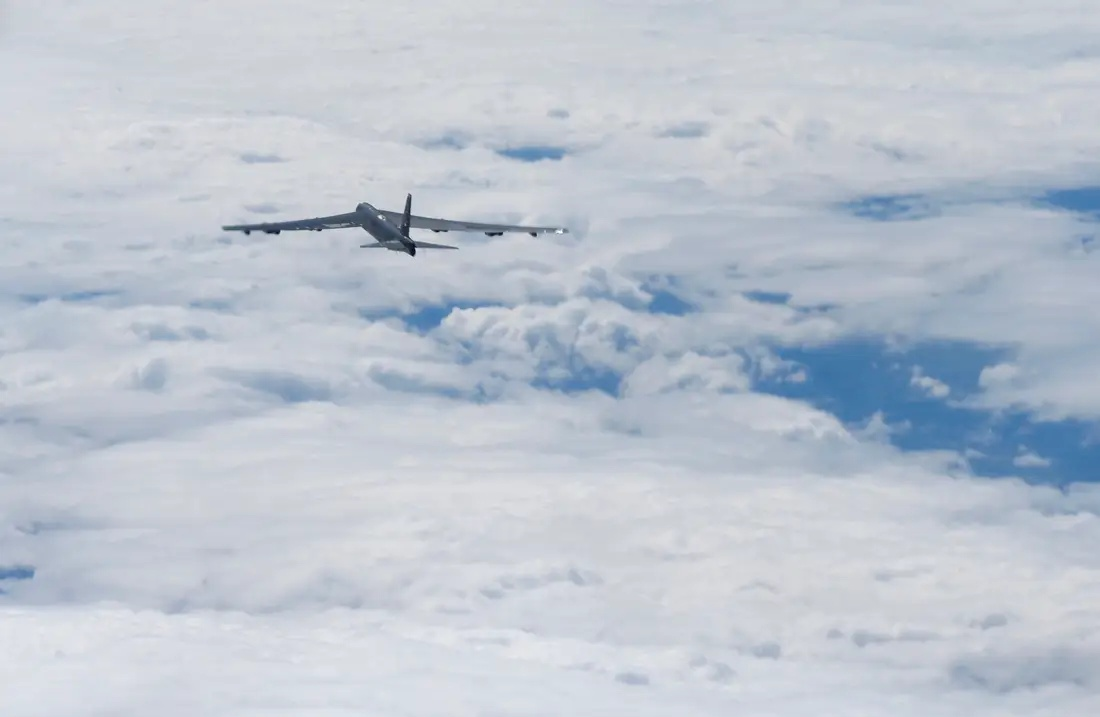B52: (221, 193, 570, 258)
